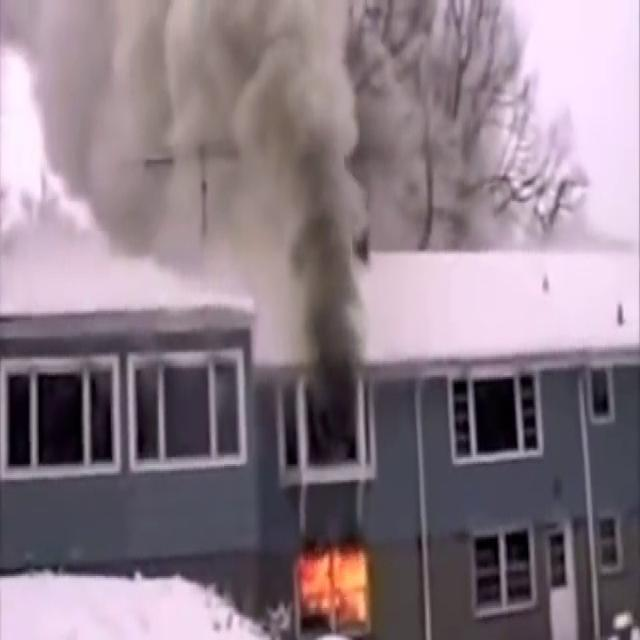Fire: (294, 524, 382, 633)
Smoke: (0, 1, 384, 319)
